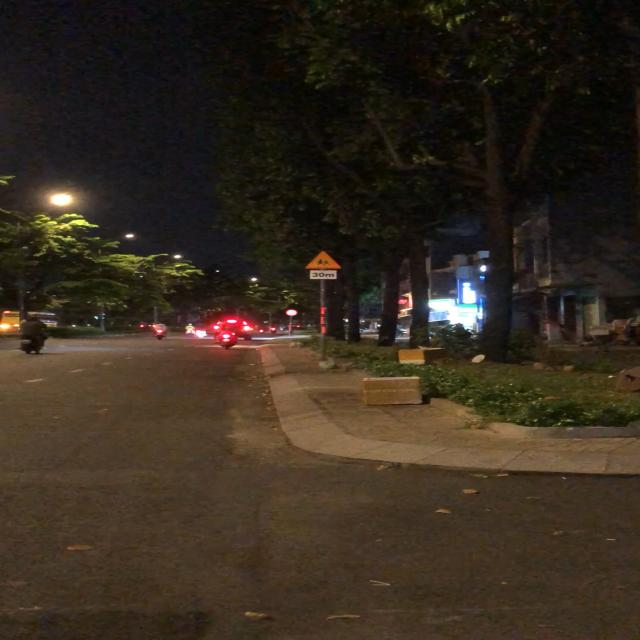Bien bao tre em: (305, 251, 341, 269)
